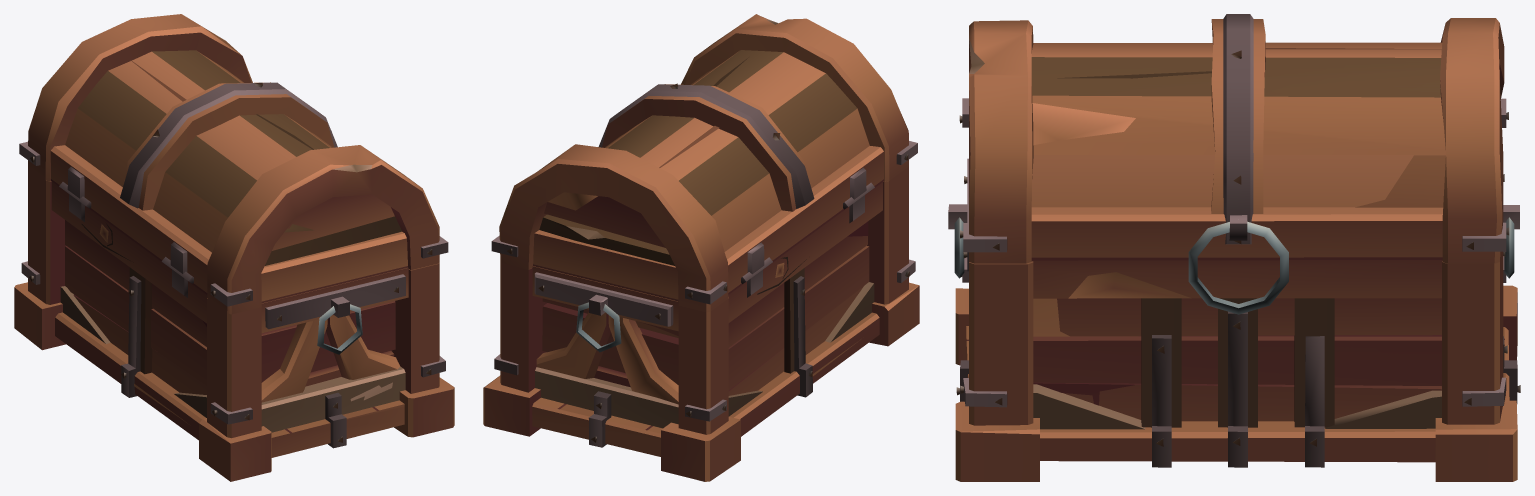
Rendered from chest_1.glb.
3 renders of one model, left to right at view 1: azimuth 30°, elevation 25°; view 2: azimuth 150°, elevation 25°; view 3: azimuth 270°, elevation 25°, orthographic. The views are drawn at different scales.
Visible parts, largest first — view 1: lid, chest; view 2: lid, chest; view 3: lid, chest.
Part boxes in pixels (bbox=[...]): lid: bbox=[19, 14, 448, 314]; chest: bbox=[14, 168, 454, 481]; lid: bbox=[491, 14, 917, 312]; chest: bbox=[483, 167, 919, 481]; lid: bbox=[959, 14, 1509, 314]; chest: bbox=[948, 158, 1520, 481].
Size of the model in its own units: 0.949 by 1.15 by 1.56.
Materials: 1 (1 with a texture image).
